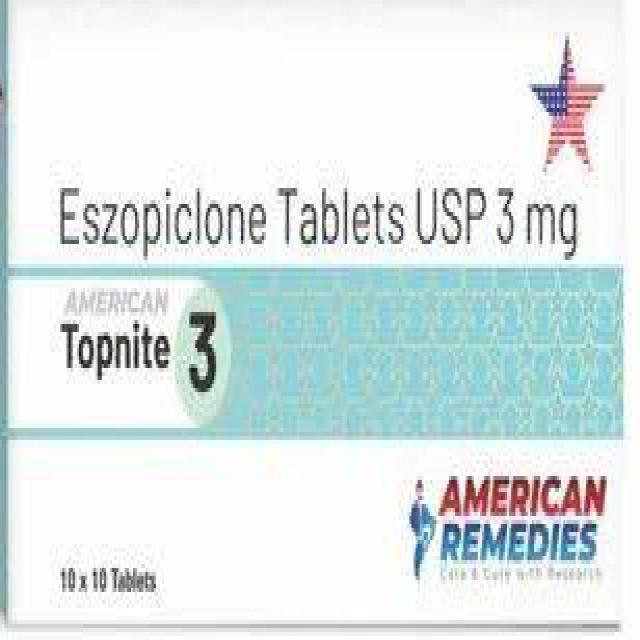drug-name: (58, 314, 217, 394)
